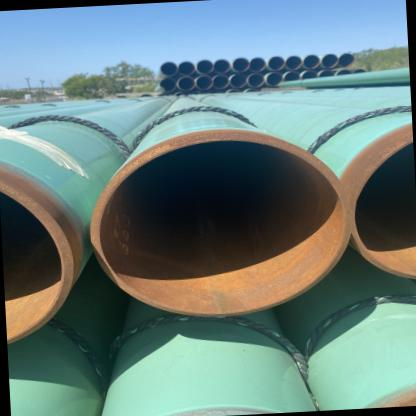clean: (193, 120, 251, 170)
